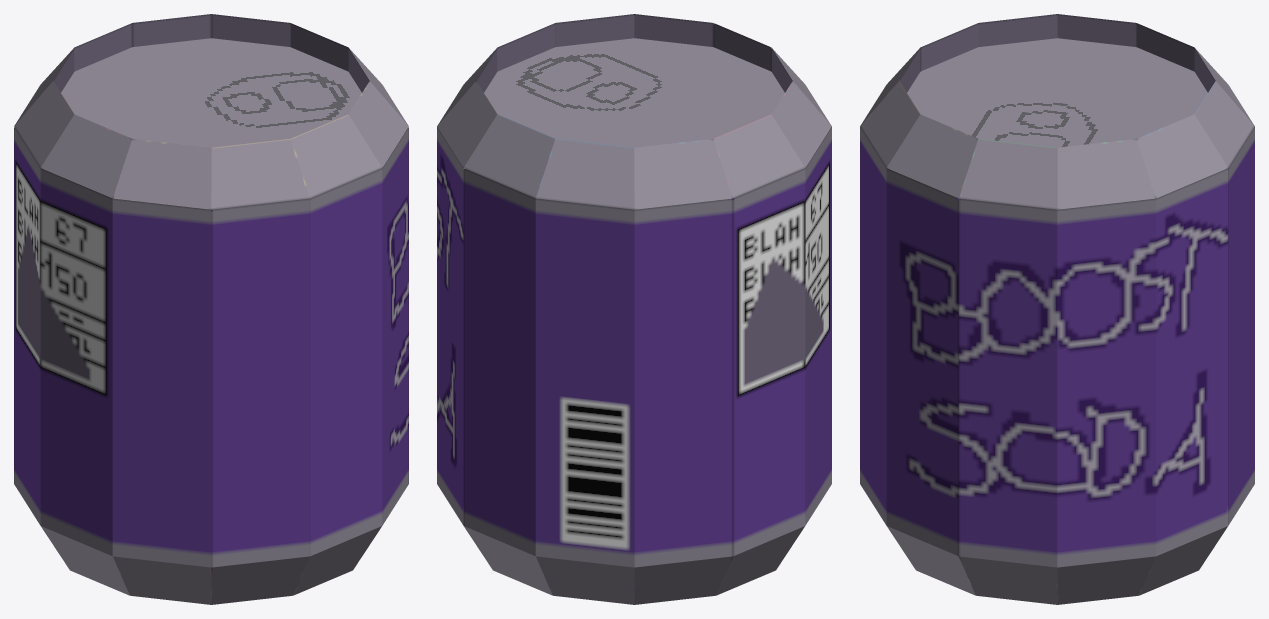
3 renders of one model, left to right at view 1: azimuth 30°, elevation 25°; view 2: azimuth 150°, elevation 25°; view 3: azimuth 270°, elevation 25°, orthographic.
Visible parts, largest first — view 1: Cilindro, circle_1; view 2: Cilindro, circle_1; view 3: Cilindro, circle_1.
Part boxes in pixels (<box>): Cilindro: <box>14,14,408,604</box>; circle_1: <box>61,38,361,147</box>; Cilindro: <box>437,14,831,604</box>; circle_1: <box>484,38,784,147</box>; Cilindro: <box>860,14,1254,604</box>; circle_1: <box>907,38,1207,147</box>.
Size of the model in its own units: 125 by 159 by 125.
3 materials, 3 textured.
